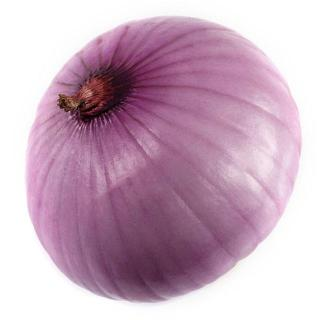Bawang Merah: (22, 13, 306, 310)
